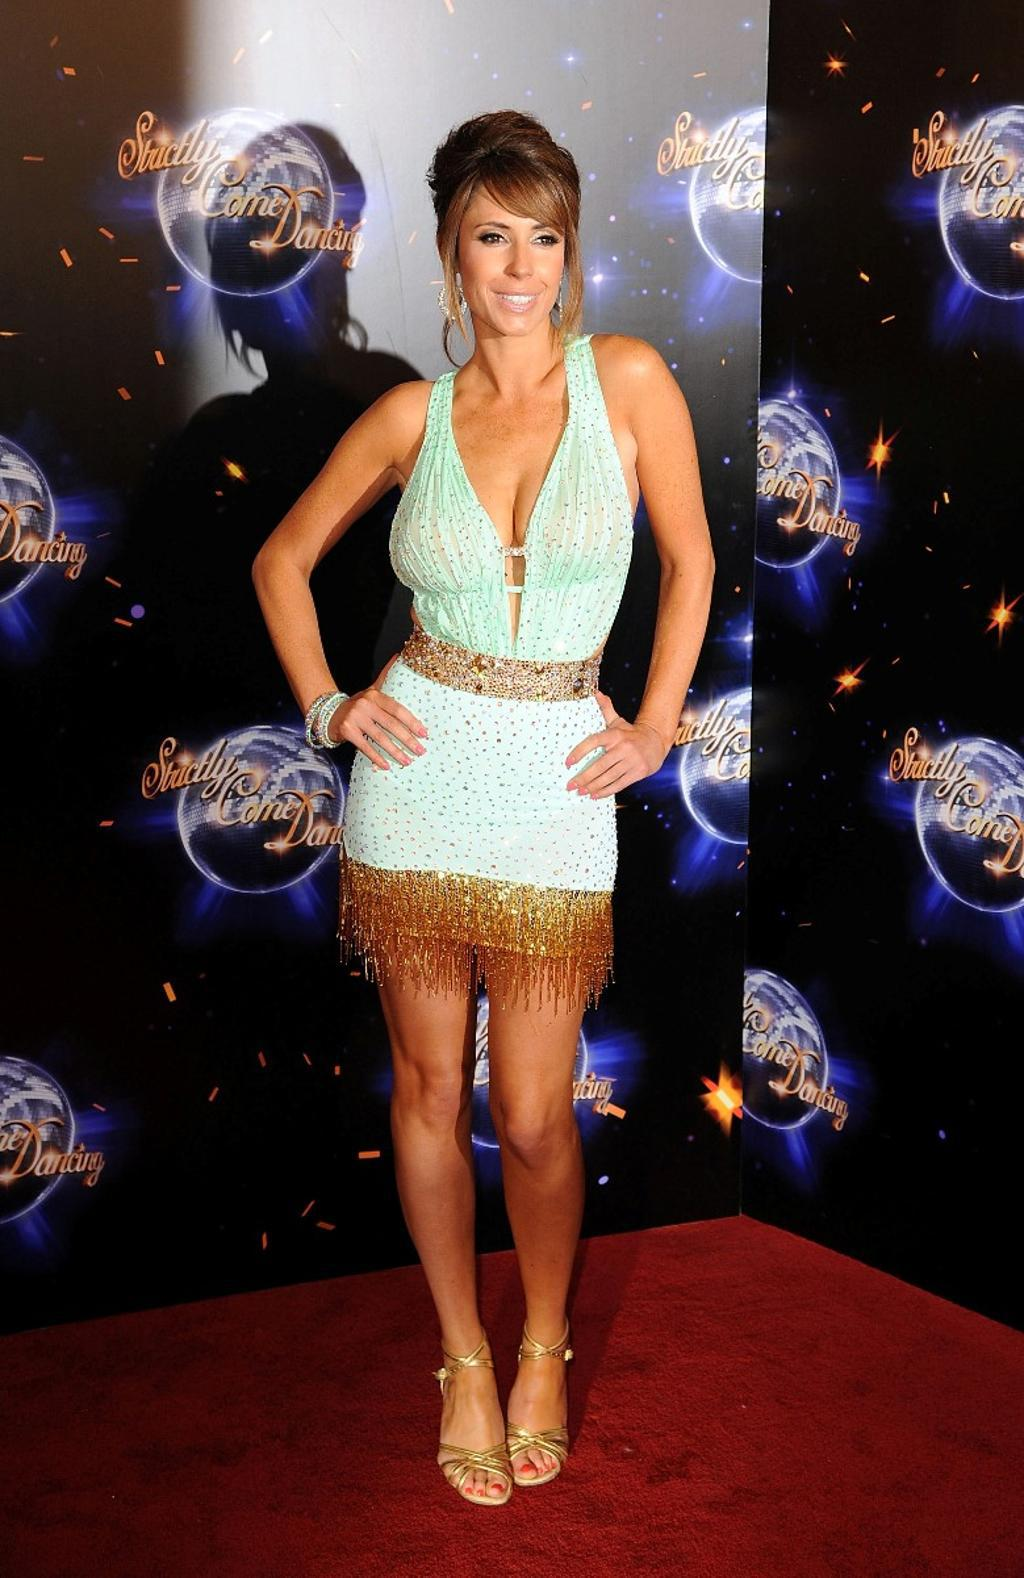face: (467, 174, 569, 334)
